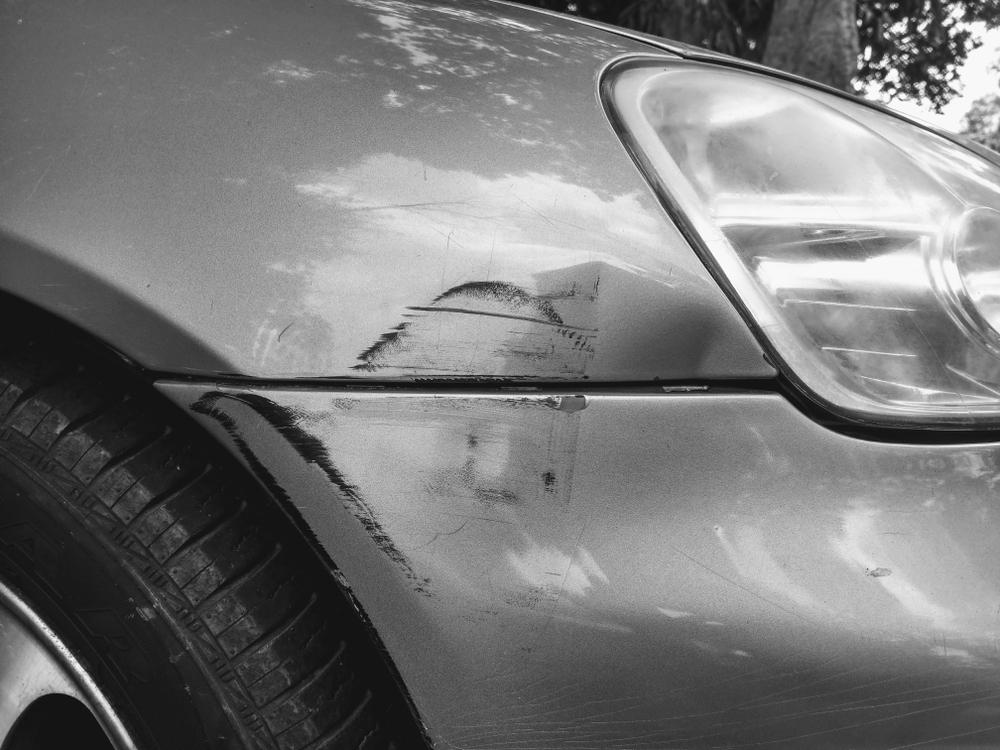dent: (632, 312, 773, 378)
scratch: (177, 387, 625, 594), (415, 643, 1000, 750), (347, 269, 606, 382)
